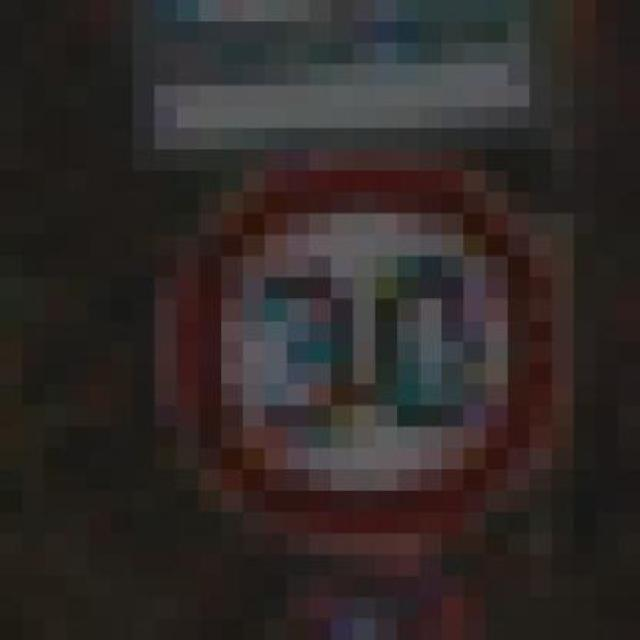Speed Limit 30 KMPh: (66, 128, 619, 555)
